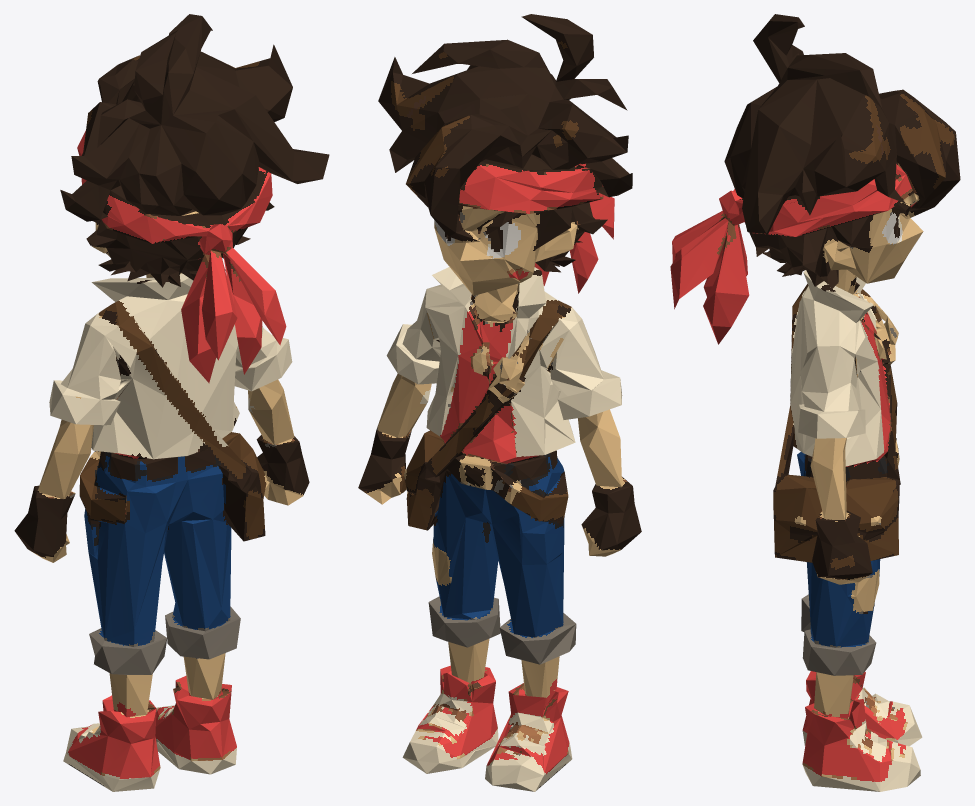
Rendered from eroe_3000.glb.
3 views of the same model, side by side, from view 1: azimuth 30°, elevation 25°; view 2: azimuth 150°, elevation 25°; view 3: azimuth 270°, elevation 25° (orthographic). The views are drawn at different scales.
Visible parts, largest first — view 1: chr_eroe; view 2: chr_eroe; view 3: chr_eroe.
Part boxes in pixels (<box>): chr_eroe: <box>14,14,329,791</box>; chr_eroe: <box>358,14,641,791</box>; chr_eroe: <box>670,14,960,791</box>.
Bounding box in the file's own units: 0.6237 × 1.62 × 0.5809.
1 material, 1 textured.
